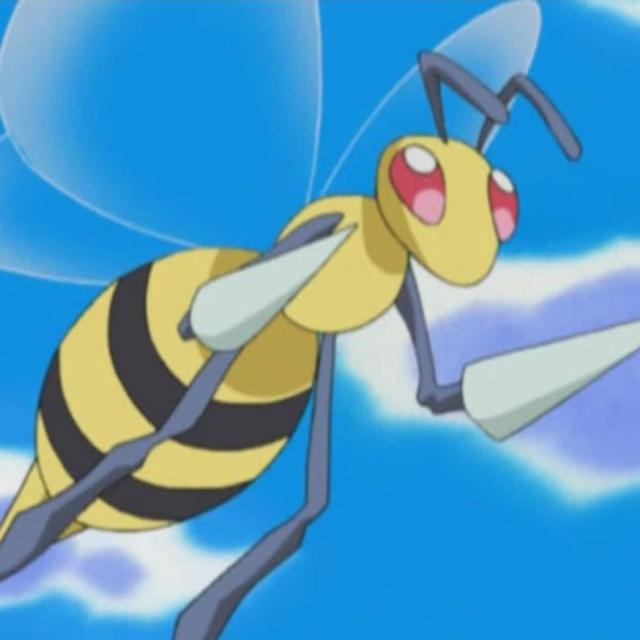Beedrill: (0, 117, 501, 532)
